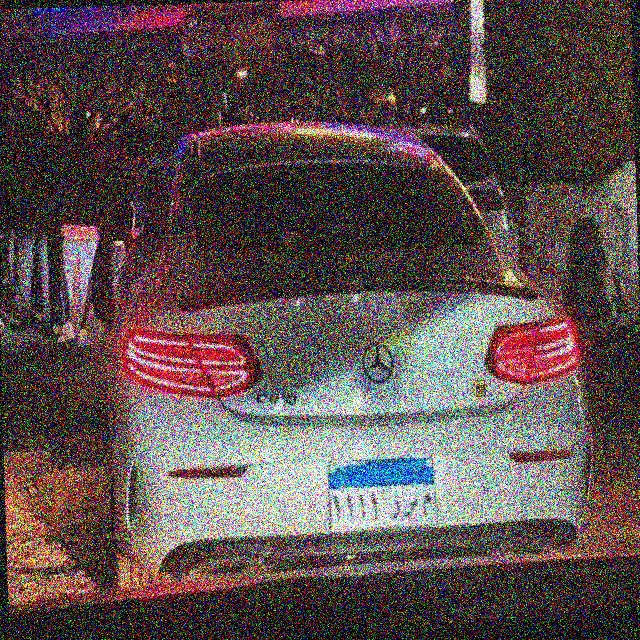License Plate: (324, 455, 440, 537)
